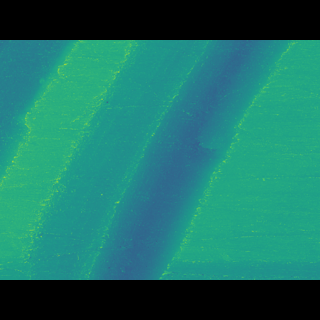Loch: (77, 69, 296, 250), (0, 70, 75, 177)
